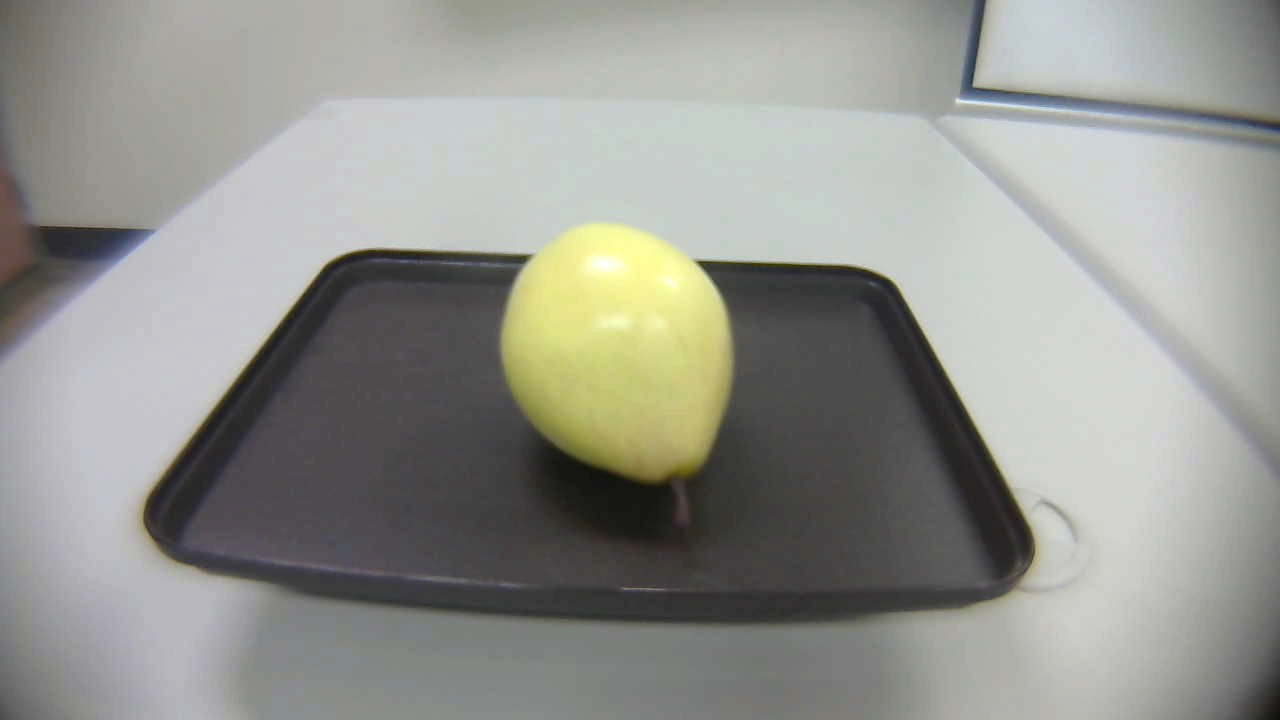western pear: (493, 216, 768, 543)
